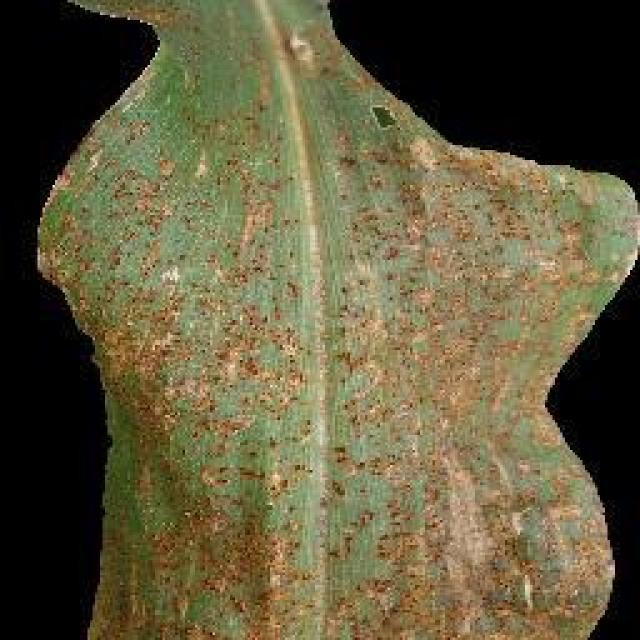Corn Common Rust: (110, 134, 450, 548)
